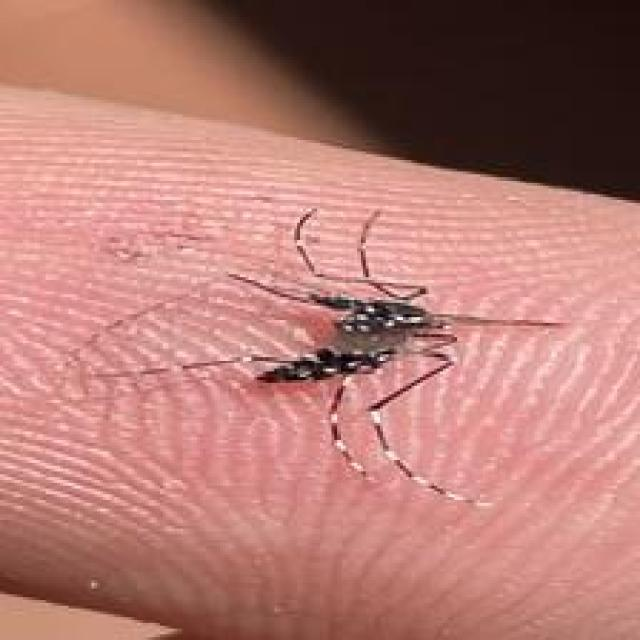Aedes albopictus: (71, 204, 568, 507)
